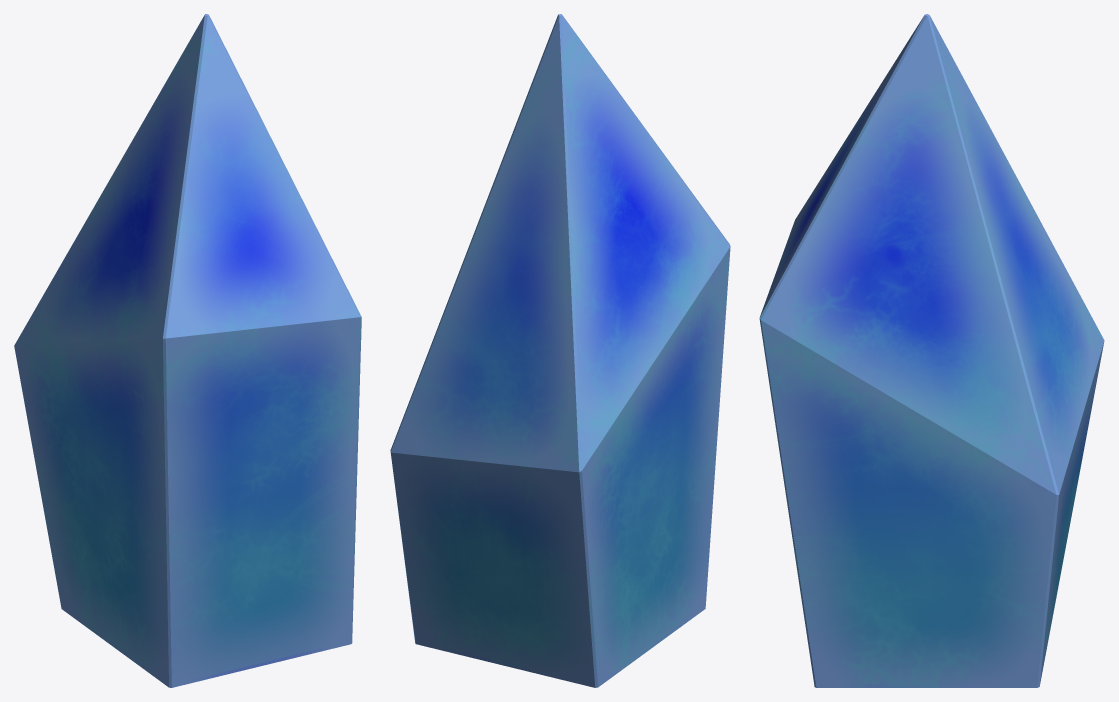
The model's file is IceSpike_Version2_small.fbx.
3 views of the same model, side by side, from view 1: azimuth 30°, elevation 25°; view 2: azimuth 150°, elevation 25°; view 3: azimuth 270°, elevation 25° (orthographic). The views are drawn at different scales.
Visible parts, largest first — view 1: Ice spike small; view 2: Ice spike small; view 3: Ice spike small.
Boxes of the visible parts, x1,y1,x2,y2 form: Ice spike small: (14, 14, 361, 687); Ice spike small: (390, 14, 730, 687); Ice spike small: (759, 14, 1104, 687).
Bounding box in the file's own units: 17.24 × 47.15 × 23.46.
